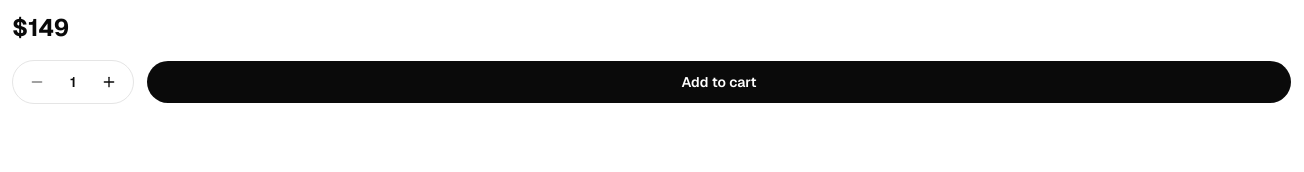
Scenario: AddToCartForm › adds the selected quantity
Later steps or results of the test are not shown.
Click the button named "Increase quantity" at [109, 82], box [93, 66, 125, 98]
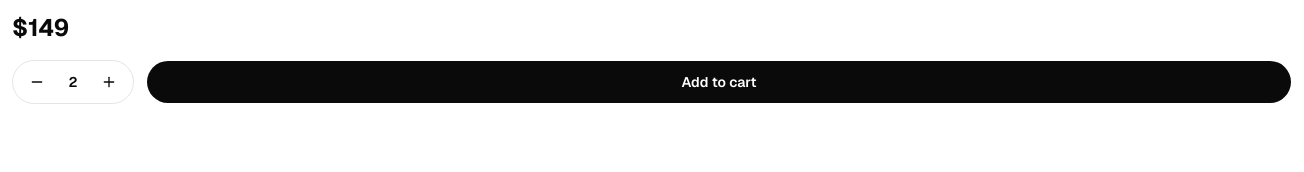
Click the button named "Increase quantity" at [109, 82], box [93, 66, 125, 98]
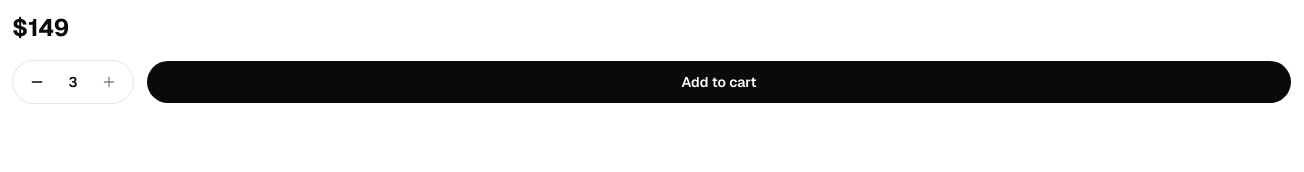
Expected: the text "3" is shown, [68, 73, 77, 91]
